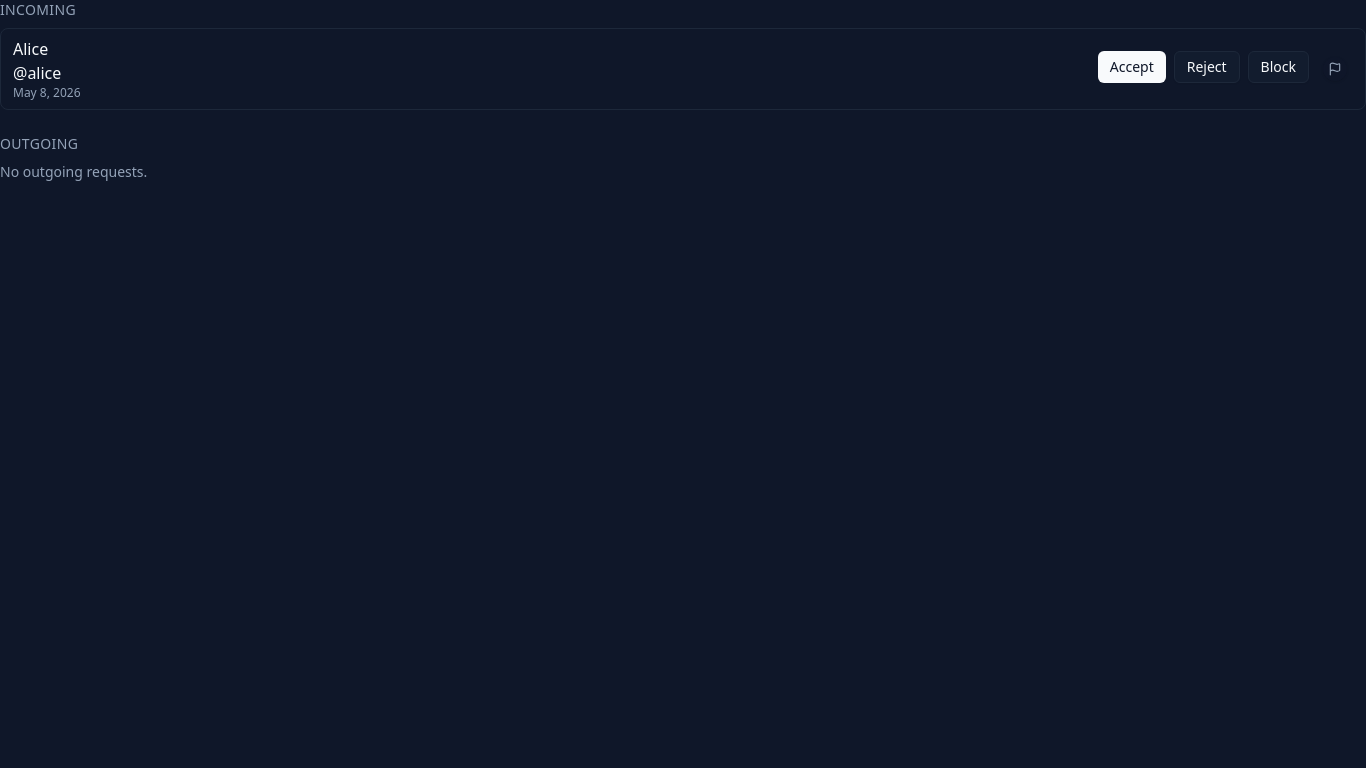
RequestsInbox › names both the display name and the handle in the block confirmation
Expected: the text "Alice" is shown, [13,38,48,60]
Click the button "Block": (1278, 67) [1248,51,1309,83]
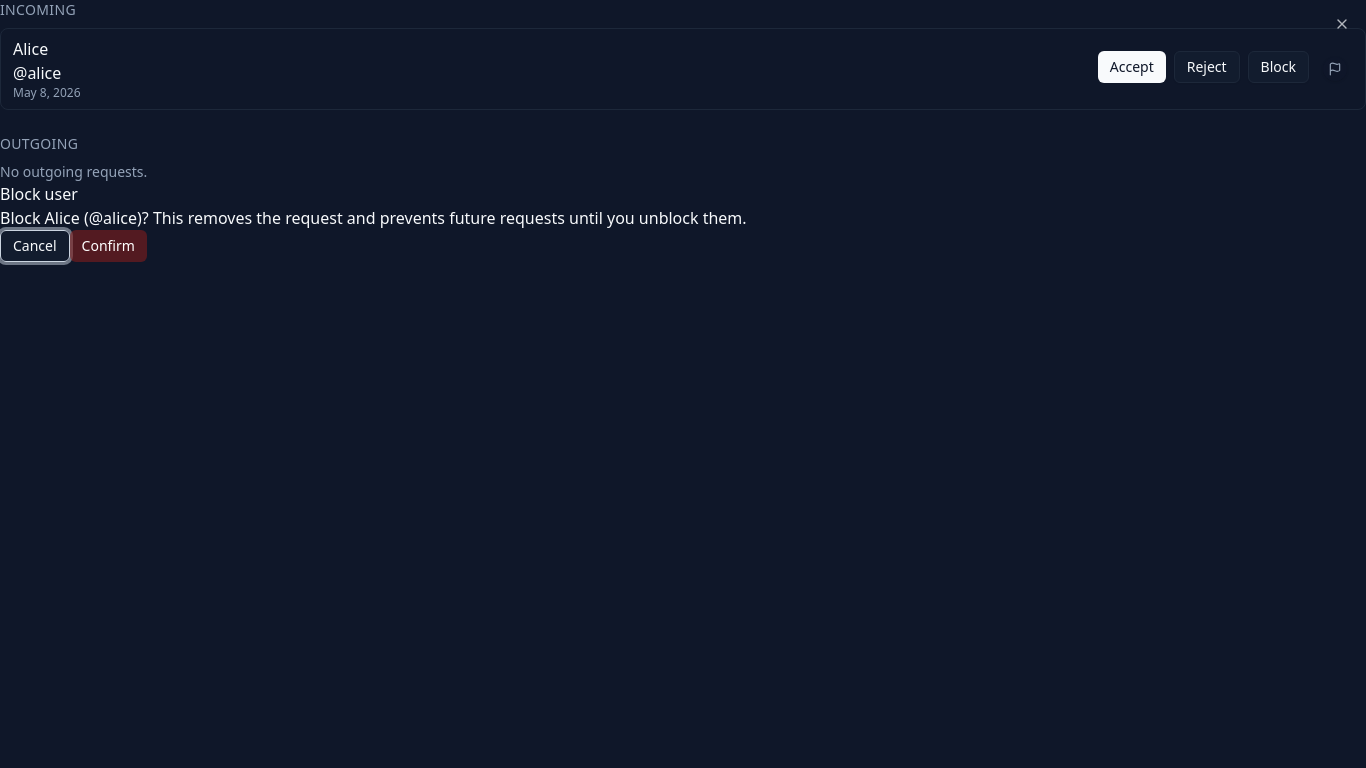
Expected: the text "Block Alice (@alice)?" is shown, [0,207,747,229]
